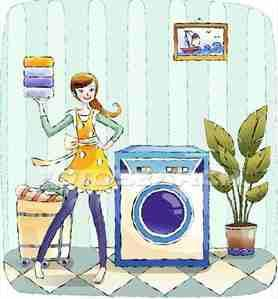person: (31, 70, 126, 283)
pottedplant: (200, 108, 270, 256)
